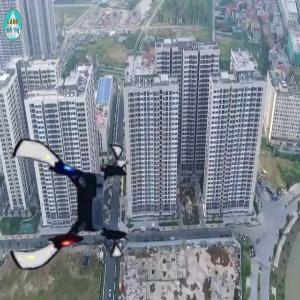drone: (1, 140, 137, 276)
